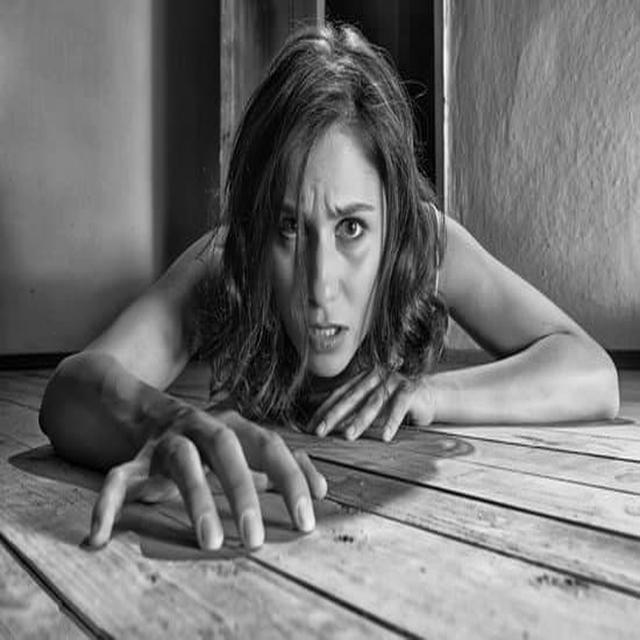Fear: (269, 130, 384, 378)
